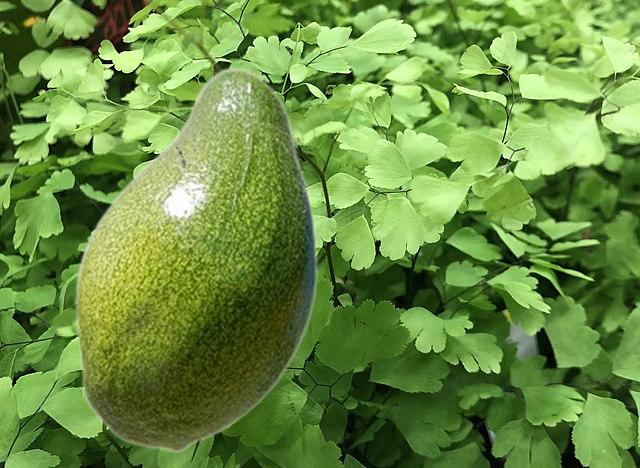avocado: (74, 66, 318, 452)
